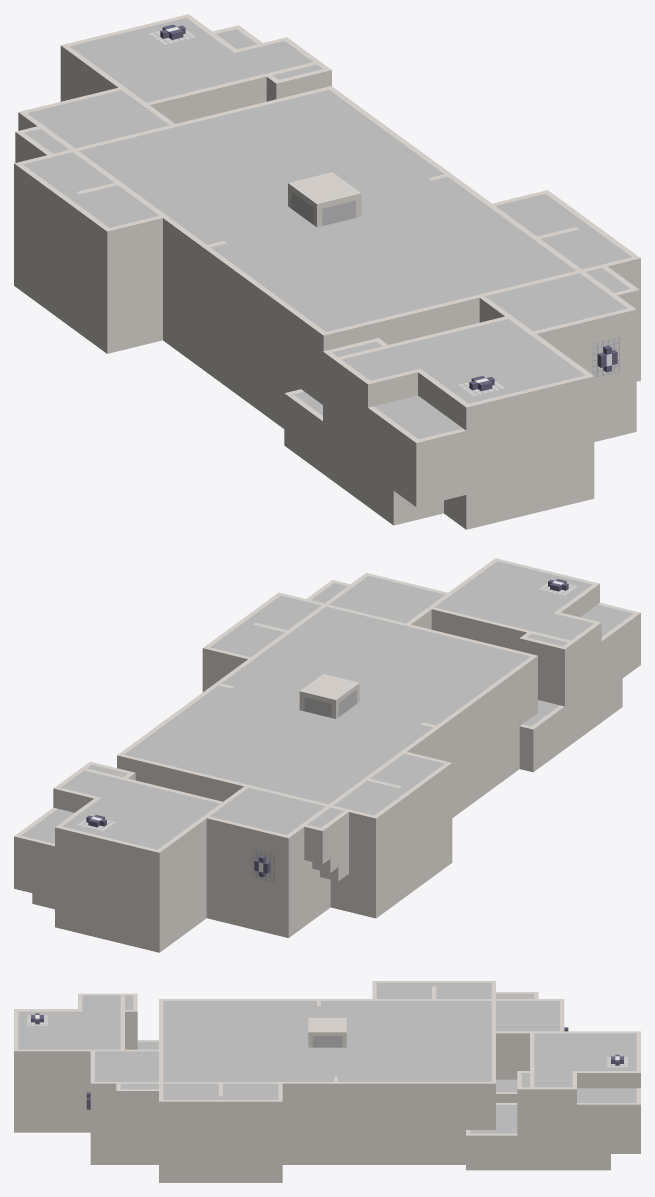
The model's file is minecraft.obj.
3 renders of one model, top to bottom at view 1: azimuth 30°, elevation 25°; view 2: azimuth 150°, elevation 25°; view 3: azimuth 270°, elevation 25°, orthographic. The views are drawn at different scales.
Bounding box in the file's own units: 67 × 25 × 147.
